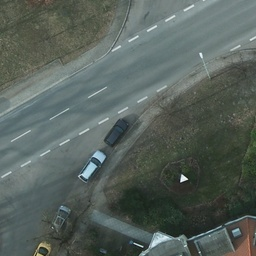car: (78, 150, 106, 184), (103, 117, 128, 147), (49, 205, 69, 235), (33, 239, 54, 256)
